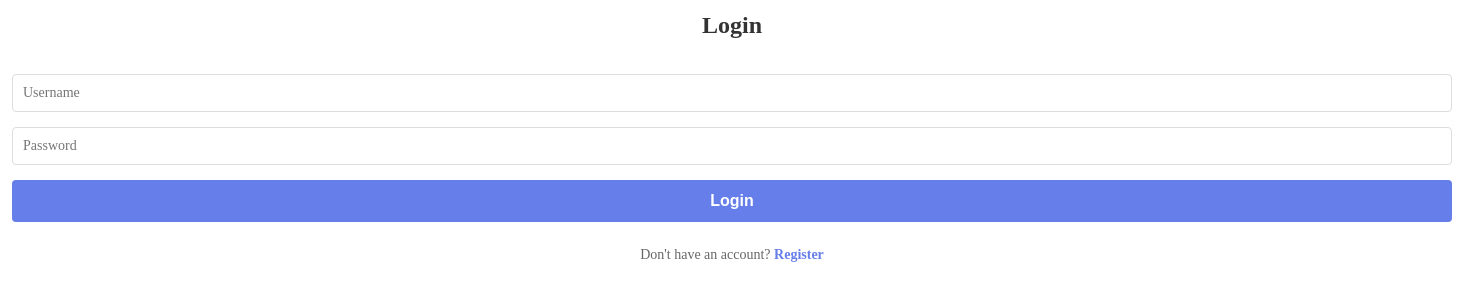
Test: Login Mock Tests › Mock: Validation Error - Username trống
The image size is (1464, 299).
// Chỉ nhập password, để username trống
Type "Test123" into the password field with test id "password-input" at (732, 146), box [12,127,1452,165]
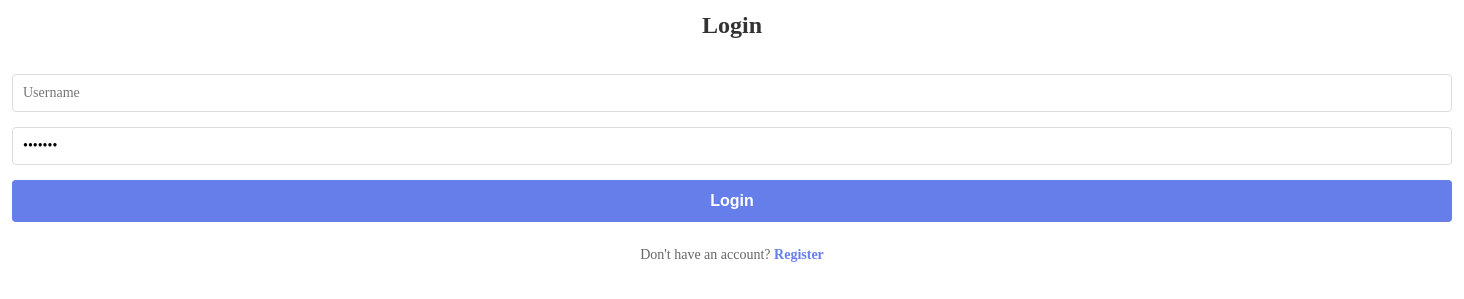
Click the button with test id "login-button" at (732, 201), box [12,180,1452,222]
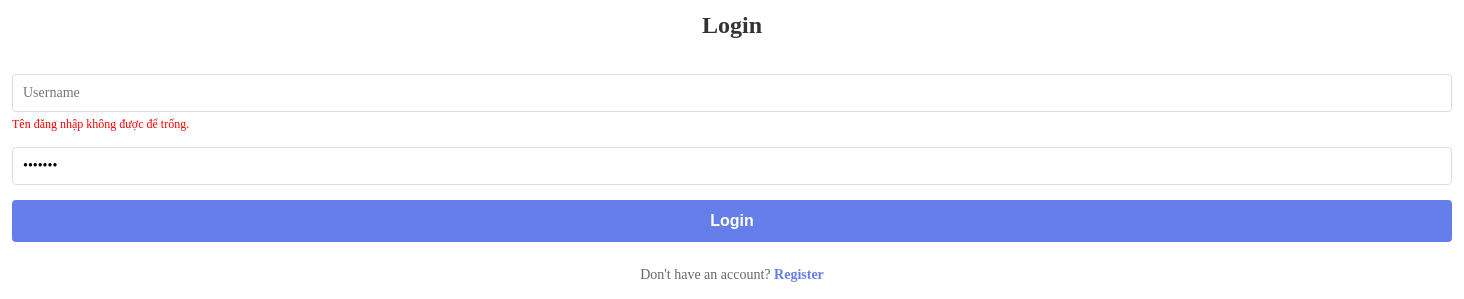
Now the text with test id "username-error" reads "Tên đăng nhập không được để trống.", box [12,117,189,131]
